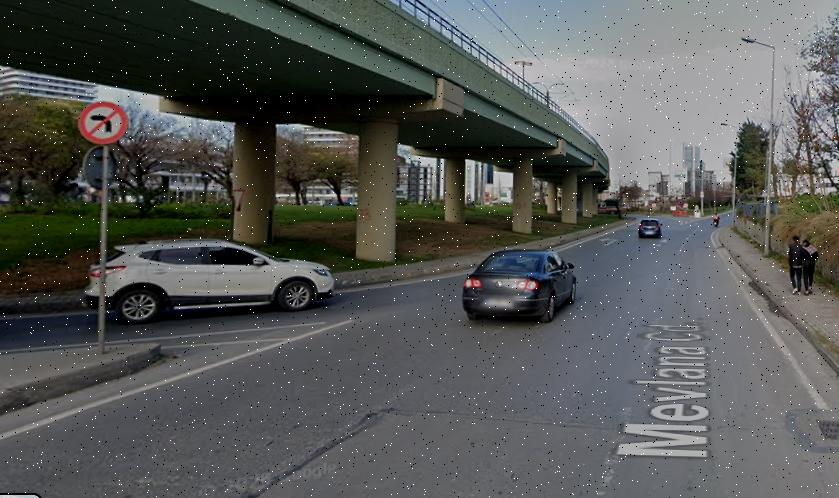leftturnsareforbidden: (79, 102, 130, 143)
